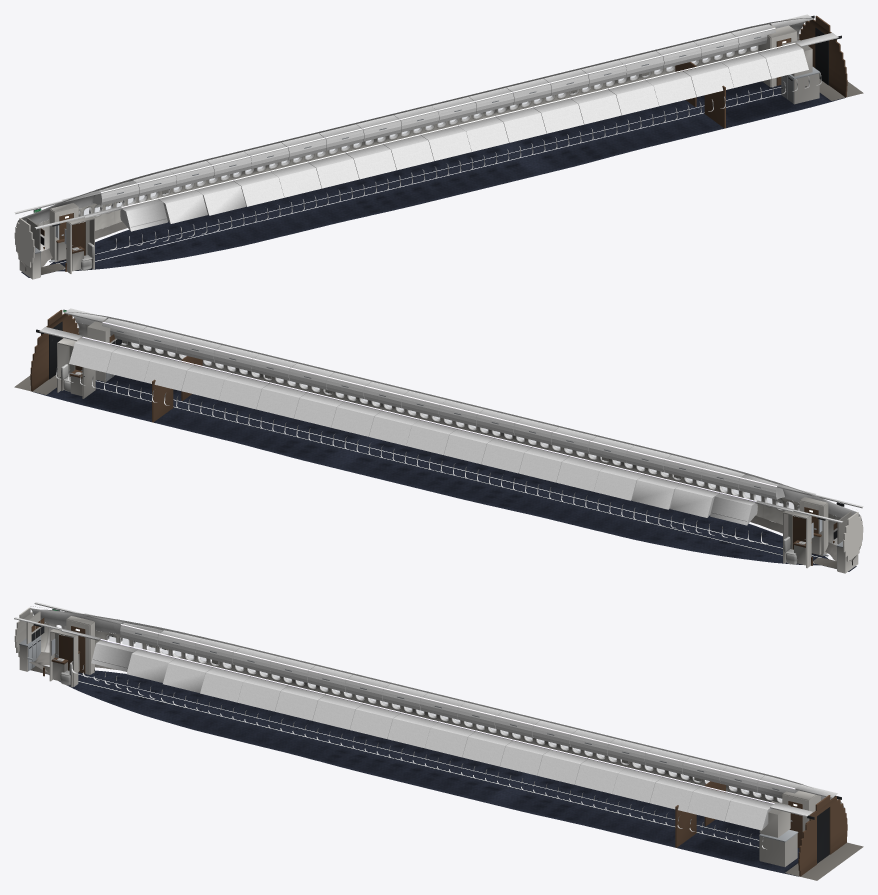
File: ma-300-cabin.glb
The picture shows the model from 3 angles, top to bottom: view 1: azimuth 30°, elevation 25°; view 2: azimuth 150°, elevation 25°; view 3: azimuth 330°, elevation 25°; orthographic projection.
Parts seen in each view (by area): view 1: Cabin_Overhead, Cabin_Floor, Cabin_Monuments, Cabin_Lining, Cabin_Reveals; view 2: Cabin_Overhead, Cabin_Floor, Cabin_Monuments, Cabin_Lining, Cabin_Reveals; view 3: Cabin_Overhead, Cabin_Floor, Cabin_Monuments, Cabin_Lining, Cabin_Reveals.
Part boxes in pixels (x1=…): Cabin_Overhead: x1=14, y1=14, x2=838, y2=231; Cabin_Floor: x1=21, y1=79, x2=863, y2=277; Cabin_Monuments: x1=14, y1=15, x2=847, y2=279; Cabin_Lining: x1=15, y1=18, x2=813, y2=271; Cabin_Reveals: x1=78, y1=45, x2=821, y2=249; Cabin_Overhead: x1=39, y1=308, x2=863, y2=525; Cabin_Floor: x1=14, y1=375, x2=856, y2=571; Cabin_Monuments: x1=30, y1=309, x2=863, y2=573; Cabin_Lining: x1=64, y1=312, x2=862, y2=565; Cabin_Reveals: x1=56, y1=340, x2=799, y2=543; Cabin_Overhead: x1=14, y1=602, x2=837, y2=830; Cabin_Floor: x1=30, y1=665, x2=863, y2=880; Cabin_Monuments: x1=14, y1=607, x2=847, y2=876; Cabin_Lining: x1=21, y1=608, x2=845, y2=812; Cabin_Reveals: x1=72, y1=635, x2=782, y2=849.
Size of the model in its own units: 35.28 by 2.46 by 4.04.
Materials: 21 (7 with a texture image).
